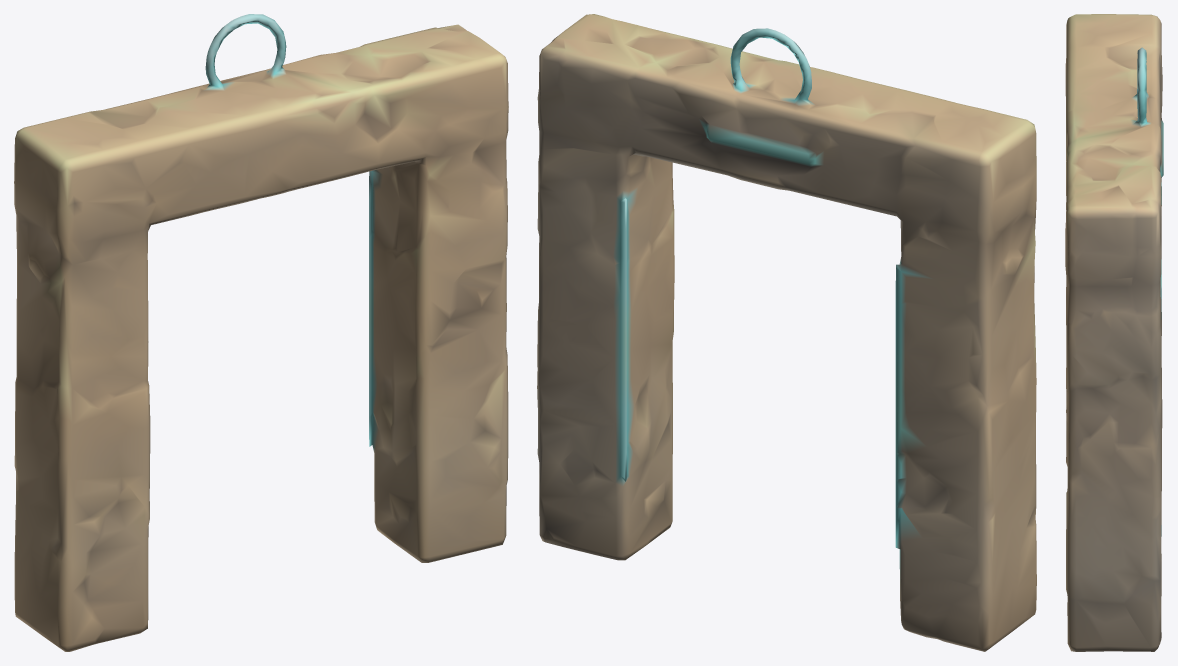
The model's file is env_co_door.glb.
3 views of the same model, side by side, from view 1: azimuth 30°, elevation 25°; view 2: azimuth 150°, elevation 25°; view 3: azimuth 270°, elevation 25° (orthographic). The views are drawn at different scales.
Visible parts, largest first — view 1: geometry_0; view 2: geometry_0; view 3: geometry_0.
Part boxes in pixels (x1=…): geometry_0: x1=14, y1=14, x2=508, y2=651; geometry_0: x1=537, y1=14, x2=1036, y2=651; geometry_0: x1=1065, y1=14, x2=1163, y2=651.
Bounding box in the file's own units: 5.03 × 5.96 × 1.05.
